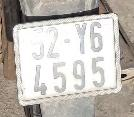2: (48, 23, 63, 59)
3: (27, 25, 46, 62)
4: (29, 63, 50, 99)
5: (88, 55, 108, 90), (51, 59, 70, 94)
6: (87, 20, 106, 53)
9: (72, 57, 87, 92)
y: (73, 18, 87, 54)
